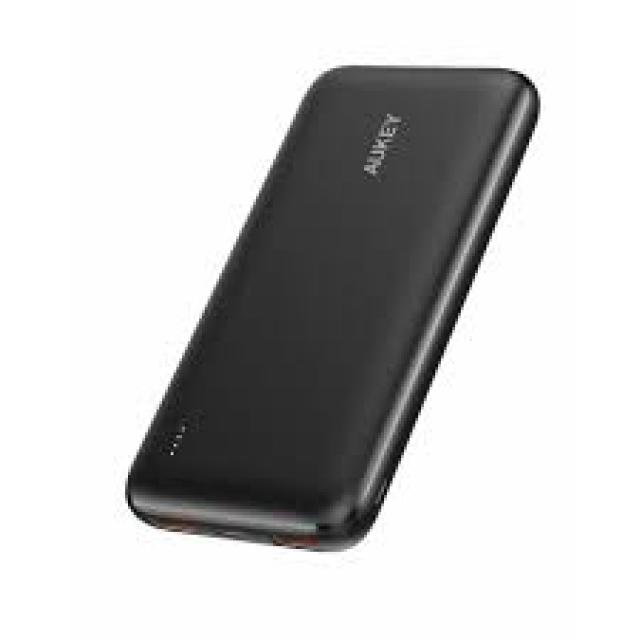portable-charger: (121, 57, 538, 558)
